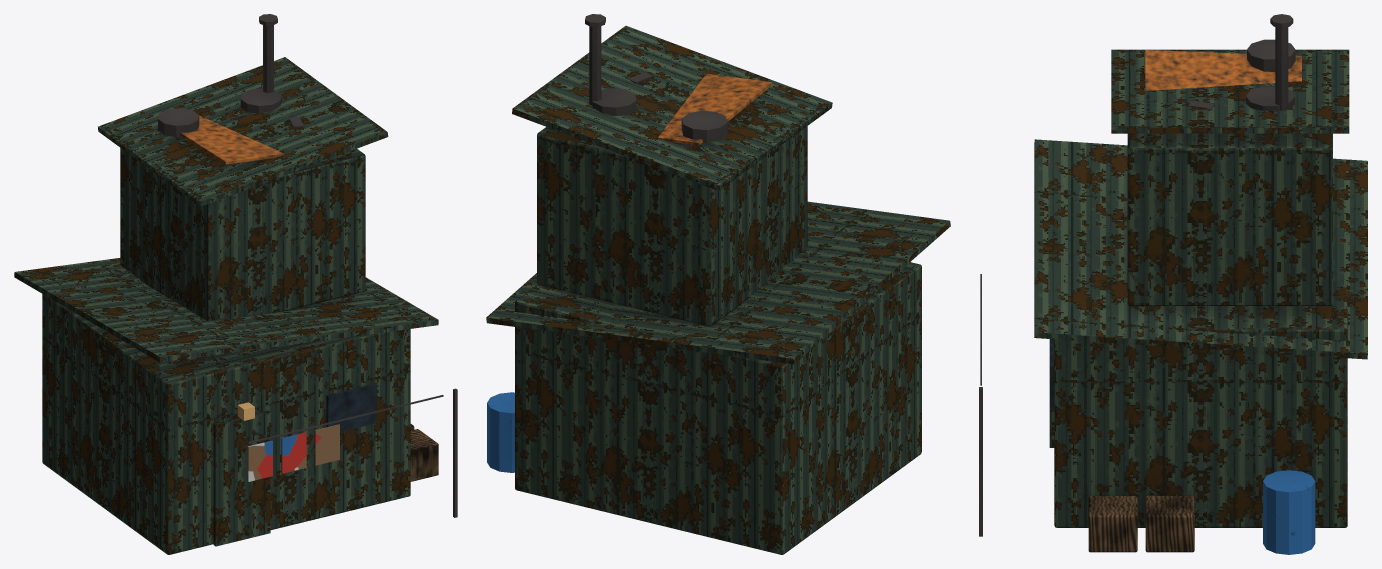
The model's file is city_shack_c.glb.
3 views of the same model, side by side, from view 1: azimuth 30°, elevation 25°; view 2: azimuth 150°, elevation 25°; view 3: azimuth 270°, elevation 25° (orthographic). The views are drawn at different scales.
Parts seen in each view (by area): view 1: city_shack_c; view 2: city_shack_c; view 3: city_shack_c.
Boxes of the visible parts, left/top/right/bottom form: city_shack_c: left=14, top=14, right=457, bottom=554; city_shack_c: left=486, top=14, right=950, bottom=554; city_shack_c: left=979, top=14, right=1367, bottom=554.
Size of the model in its own units: 5.08 by 6.56 by 4.77.
8 materials, 8 textured.
